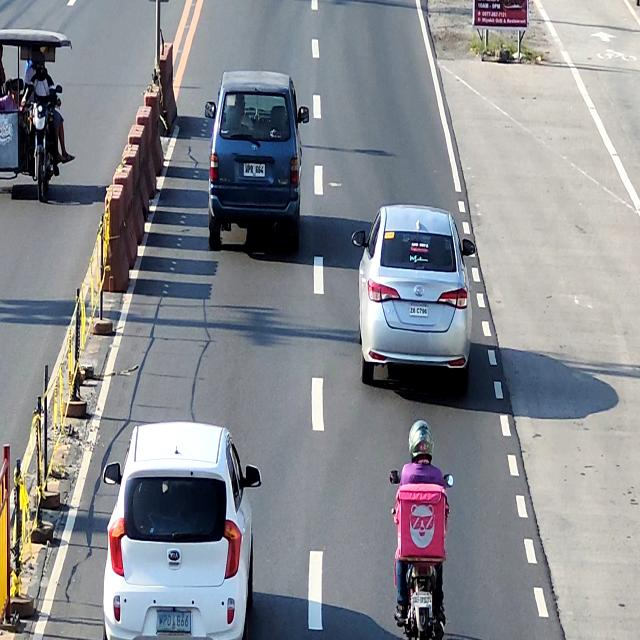Car: (100, 422, 260, 640), (351, 204, 476, 403), (201, 67, 310, 257)
License-Plate: (157, 611, 191, 633), (410, 591, 433, 609), (243, 163, 265, 176), (410, 305, 428, 317)
Motorcycle: (388, 463, 454, 640)
Tricycle: (0, 27, 72, 202)
